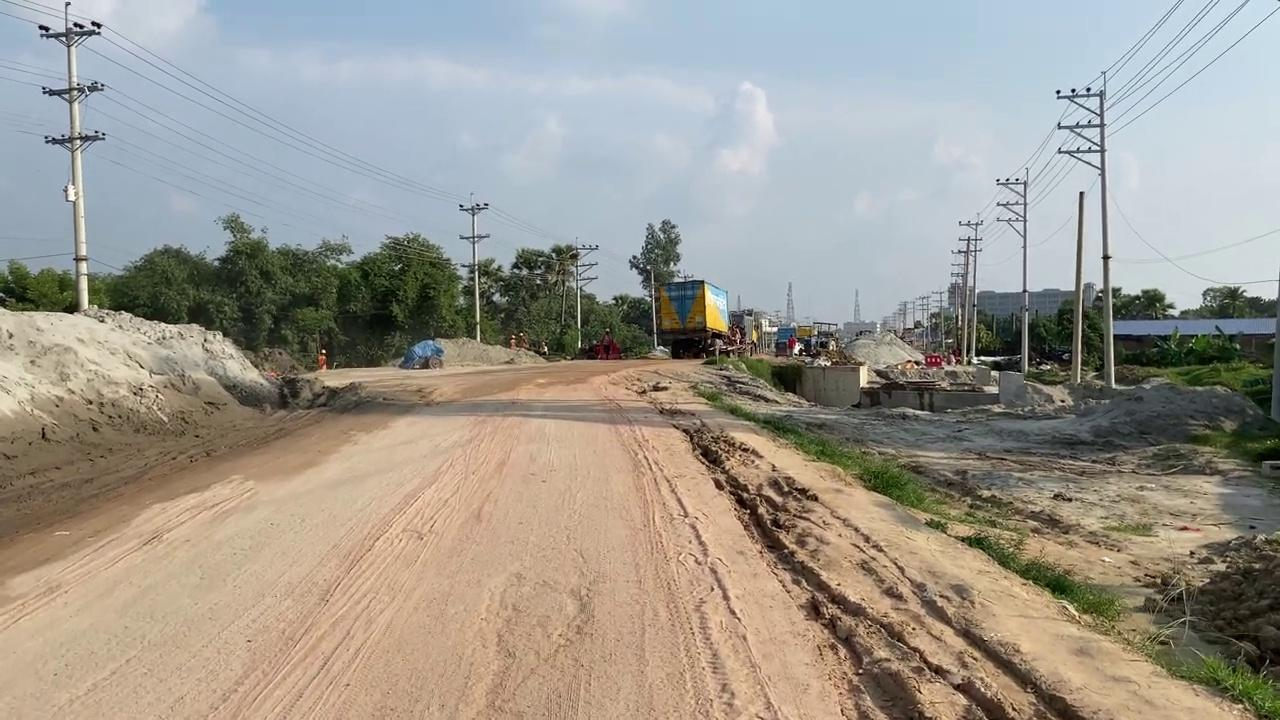Garbage: (398, 338, 444, 369)
Muddy road: (1, 355, 1268, 718)
Obstacle: (794, 361, 869, 407), (997, 369, 1026, 406)
Pole: (37, 1, 104, 310), (1070, 190, 1084, 384), (648, 264, 657, 349)
Traffic-sign: (627, 217, 681, 349)
Tree: (651, 278, 730, 359), (793, 321, 839, 355), (774, 324, 816, 356), (812, 321, 838, 350)
